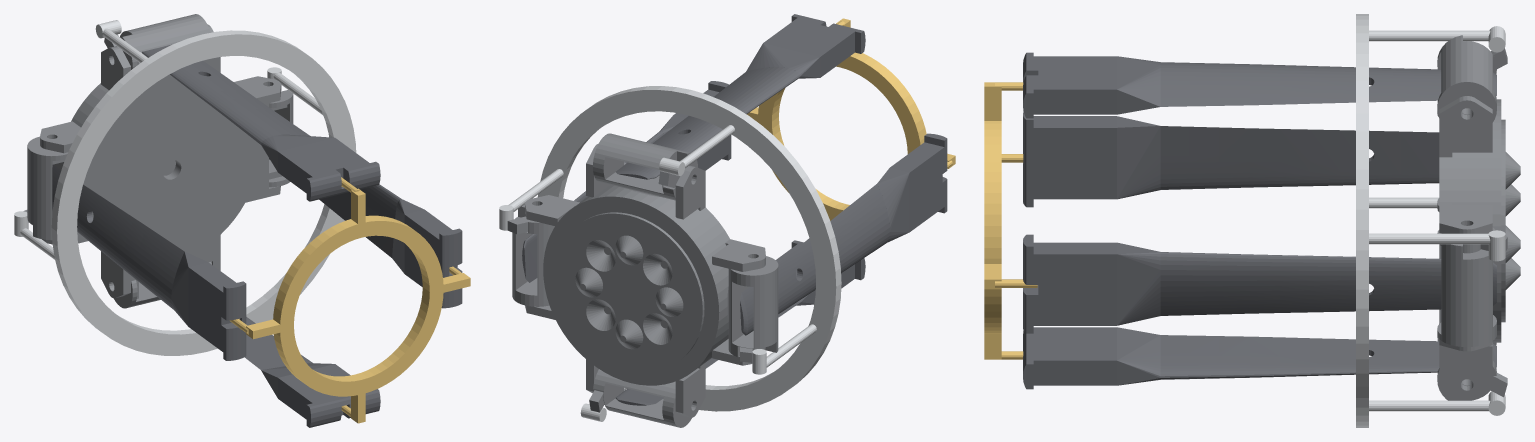
The model's file is cephalo2_rotor_stowed.glb.
3 views of the same model, side by side, from view 1: azimuth 30°, elevation 25°; view 2: azimuth 150°, elevation 25°; view 3: azimuth 270°, elevation 25° (orthographic). The views are drawn at different scales.
Parts seen in each view (by area): view 1: belly rotor|blades, belly rotor|hub, scabbard cage|rods, scabbard cage|elevator, belly rotor|barrels; view 2: belly rotor|hub, belly rotor|blades, scabbard cage|rods, belly rotor|barrels, scabbard cage|elevator; view 3: belly rotor|blades, belly rotor|hub, scabbard cage|rods, belly rotor|barrels, scabbard cage|elevator.
Boxes of the visible parts, x1,y1,x2,y2 form: belly rotor|blades: [52, 44, 462, 427]; belly rotor|hub: [40, 24, 280, 298]; scabbard cage|rods: [14, 20, 356, 355]; scabbard cage|elevator: [229, 177, 470, 423]; belly rotor|barrels: [23, 14, 293, 308]; belly rotor|hub: [525, 143, 765, 417]; belly rotor|blades: [522, 14, 947, 405]; scabbard cage|rods: [499, 86, 841, 421]; belly rotor|barrels: [507, 133, 778, 427]; scabbard cage|elevator: [747, 18, 955, 220]; belly rotor|blades: [1023, 52, 1496, 389]; belly rotor|hub: [1439, 96, 1520, 398]; scabbard cage|rods: [1356, 14, 1505, 427]; belly rotor|barrels: [1437, 35, 1507, 400]; scabbard cage|elevator: [984, 82, 1037, 359].
Size of the model in its own units: 0.194 by 0.194 by 0.251.
